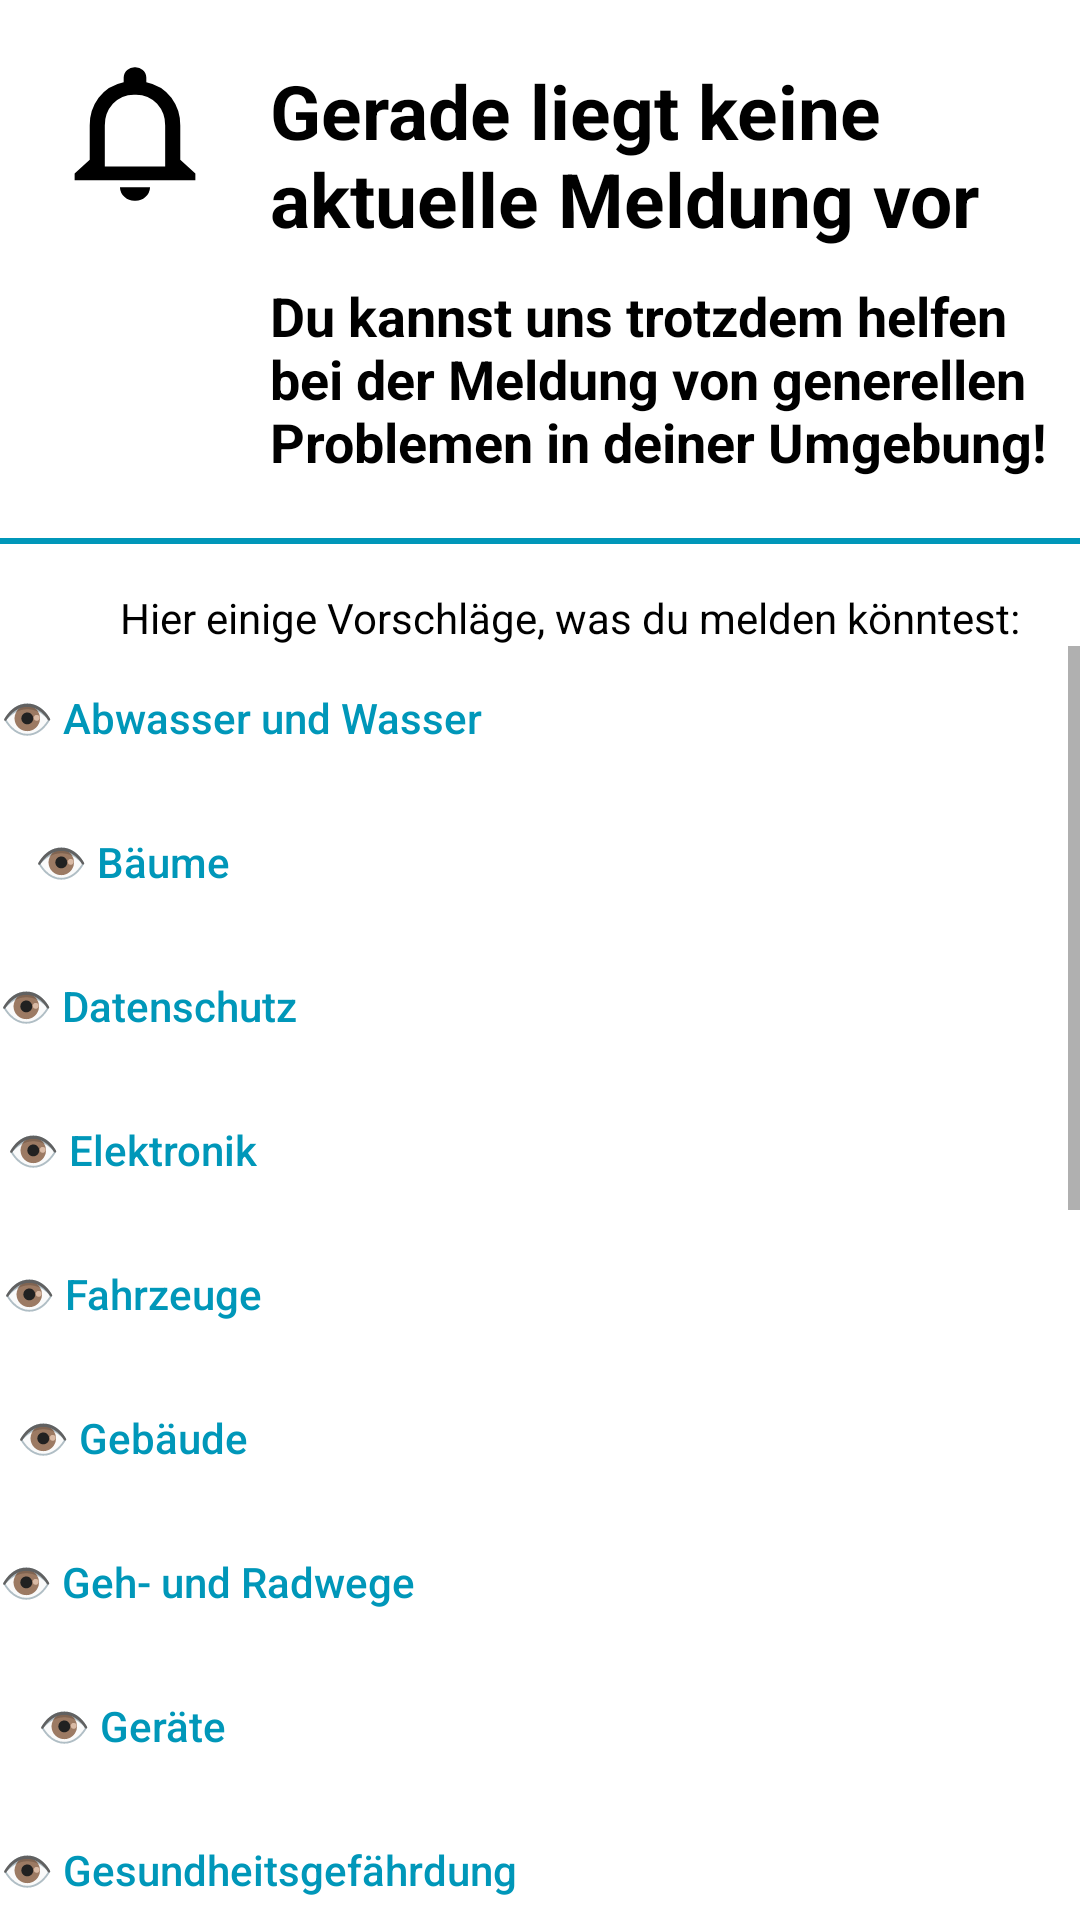

Screen size 1080w x 1920h. Icon name, then its center in pixels as (x,y):
social notifications none: (135,134)
